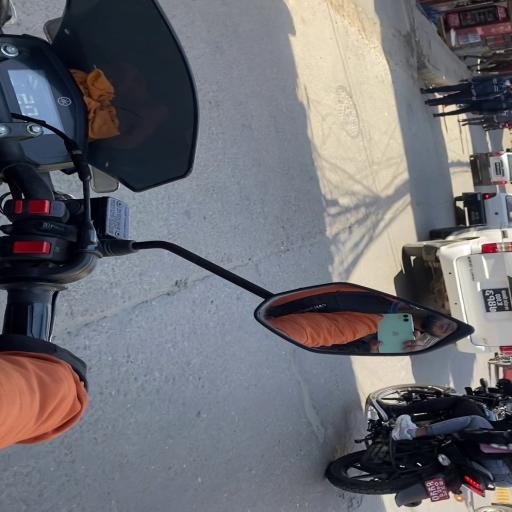license_plate: (479, 288, 511, 314), (495, 162, 502, 175)
